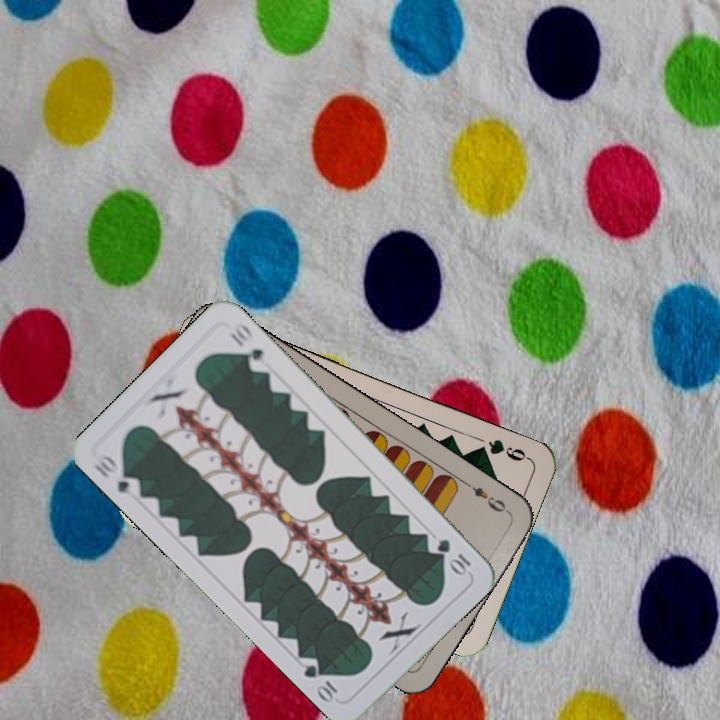E9: (460, 478, 513, 517)
G10: (89, 449, 144, 501), (432, 534, 474, 578)
G9: (471, 435, 532, 464)
